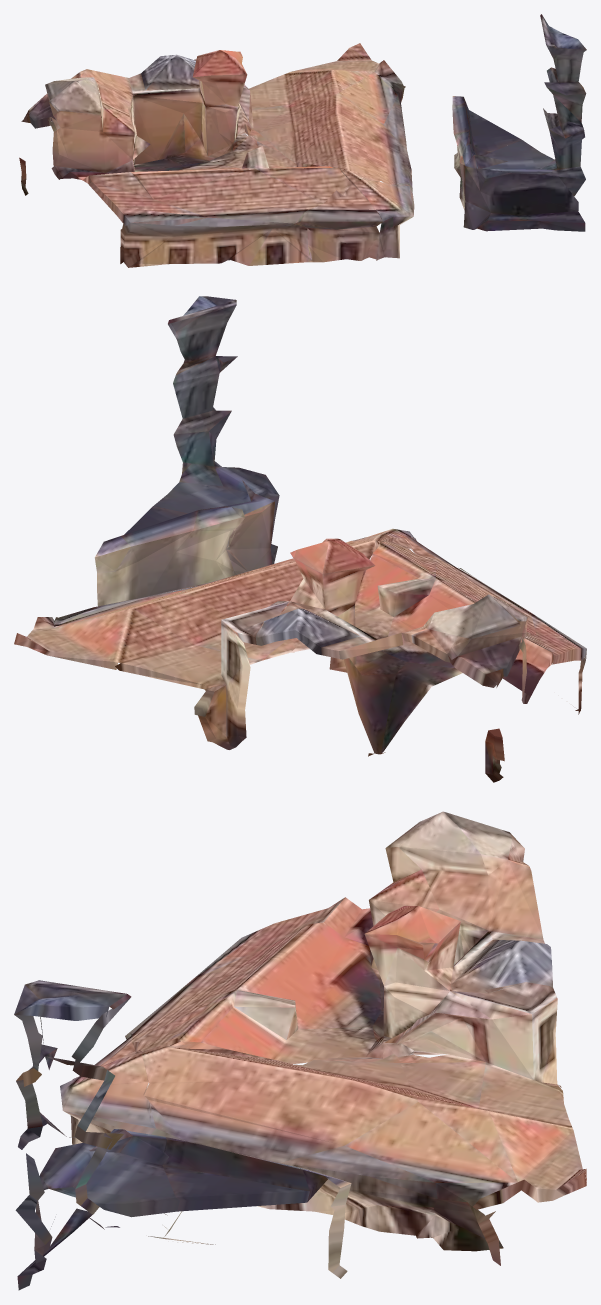
3 renders of one model, top to bottom at view 1: azimuth 30°, elevation 25°; view 2: azimuth 150°, elevation 25°; view 3: azimuth 270°, elevation 25°, orthographic. The views are drawn at different scales.
Visible parts, largest first — view 1: Mesh_0; view 2: Mesh_0; view 3: Mesh_0.
Boxes of the visible parts, <box> form: Mesh_0: <box>19,14,586,267</box>; Mesh_0: <box>14,296,586,782</box>; Mesh_0: <box>14,811,586,1290</box>.
Bounding box in the file's own units: 32.69 × 15 × 26.38.
1 material, 1 textured.
